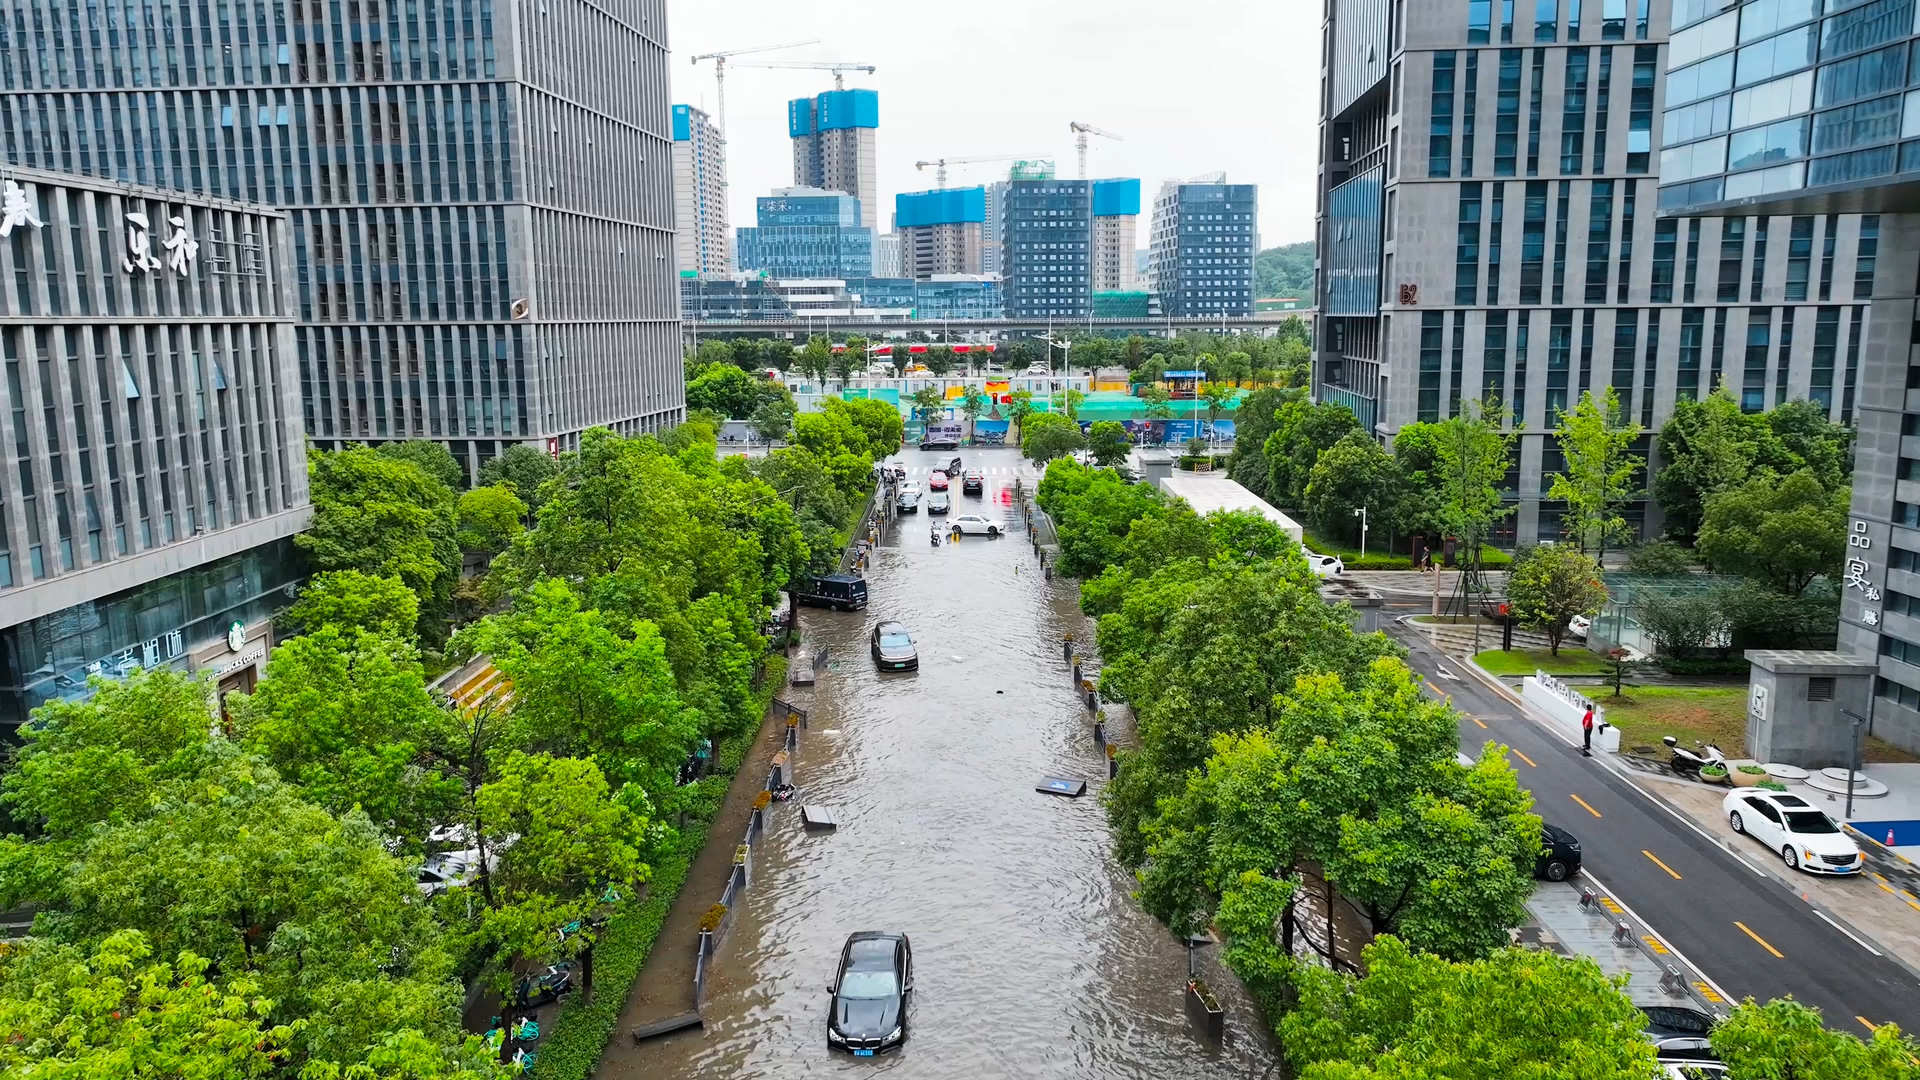puddle: (775, 525, 1168, 1080)
